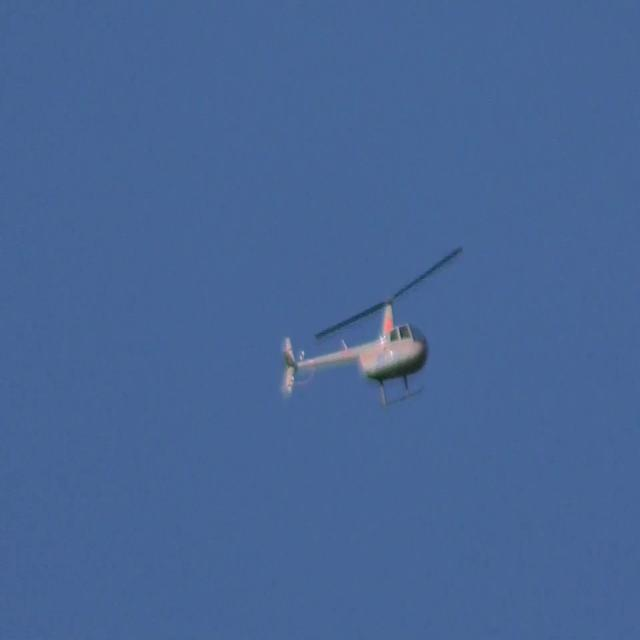CIV_HELO: (280, 298, 431, 414)
